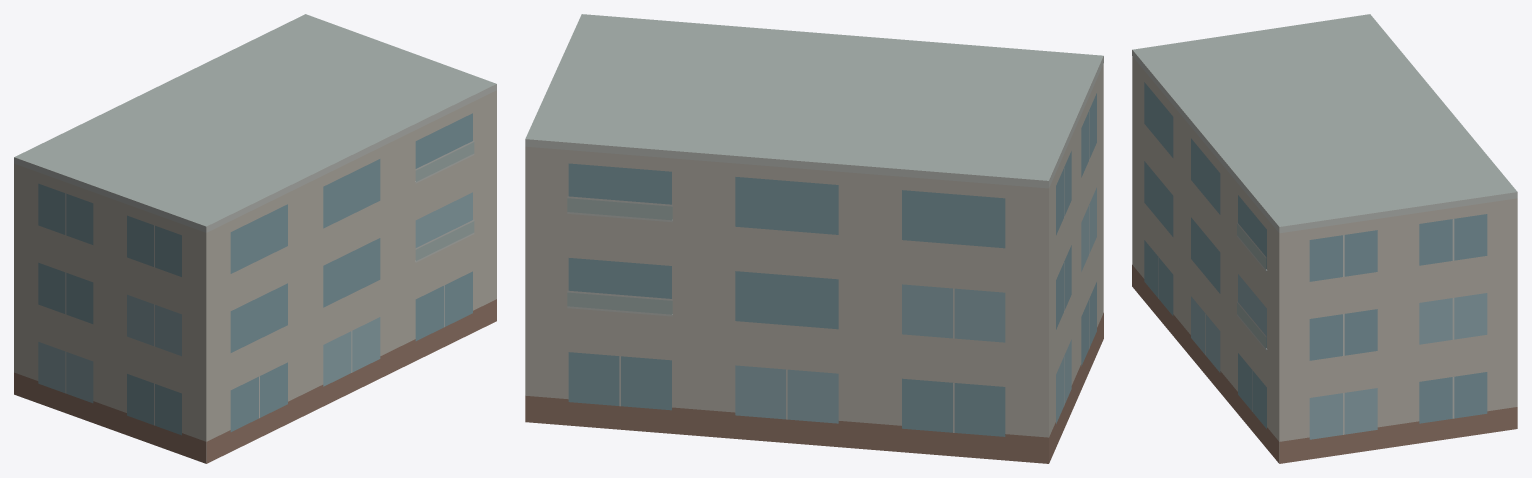
Rendered from survey-upis-32702928.glb.
3 views of the same model, side by side, from view 1: azimuth 30°, elevation 25°; view 2: azimuth 150°, elevation 25°; view 3: azimuth 270°, elevation 25° (orthographic). The views are drawn at different scales.
Parts seen in each view (by area): view 1: survey-upis-32702928.tmp; view 2: survey-upis-32702928.tmp; view 3: survey-upis-32702928.tmp.
Part boxes in pixels (left/top/right/bottom): survey-upis-32702928.tmp: left=14, top=14, right=496, bottom=463; survey-upis-32702928.tmp: left=525, top=14, right=1103, bottom=463; survey-upis-32702928.tmp: left=1132, top=14, right=1517, bottom=463.
Bounding box in the file's own units: 17.65 × 9.15 × 13.5.
